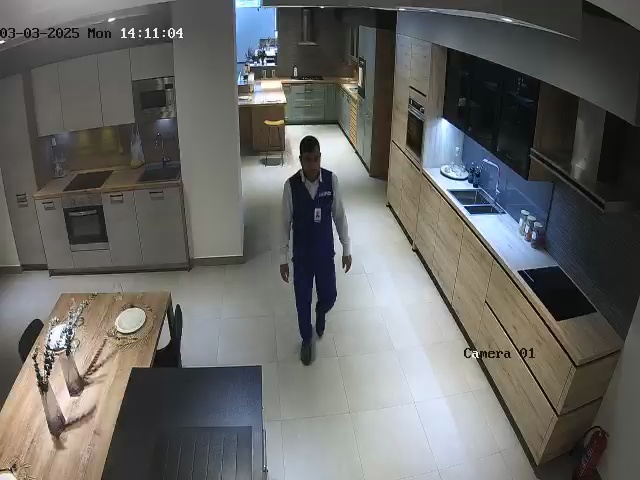employee: (279, 135, 352, 367)
